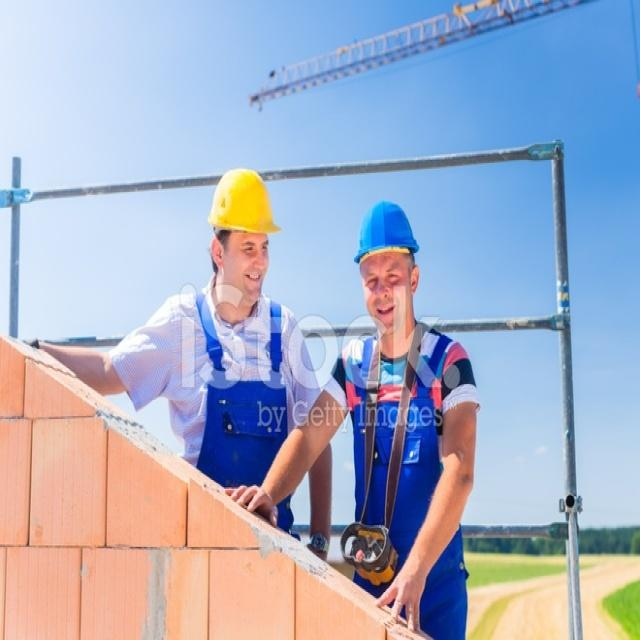helmet: (354, 261, 416, 448), (209, 225, 270, 400)
